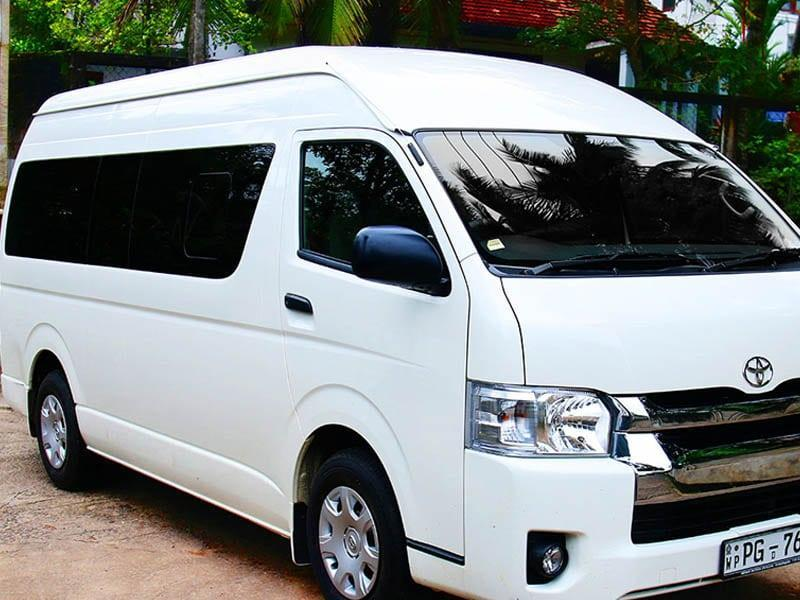car: (0, 42, 800, 600)
